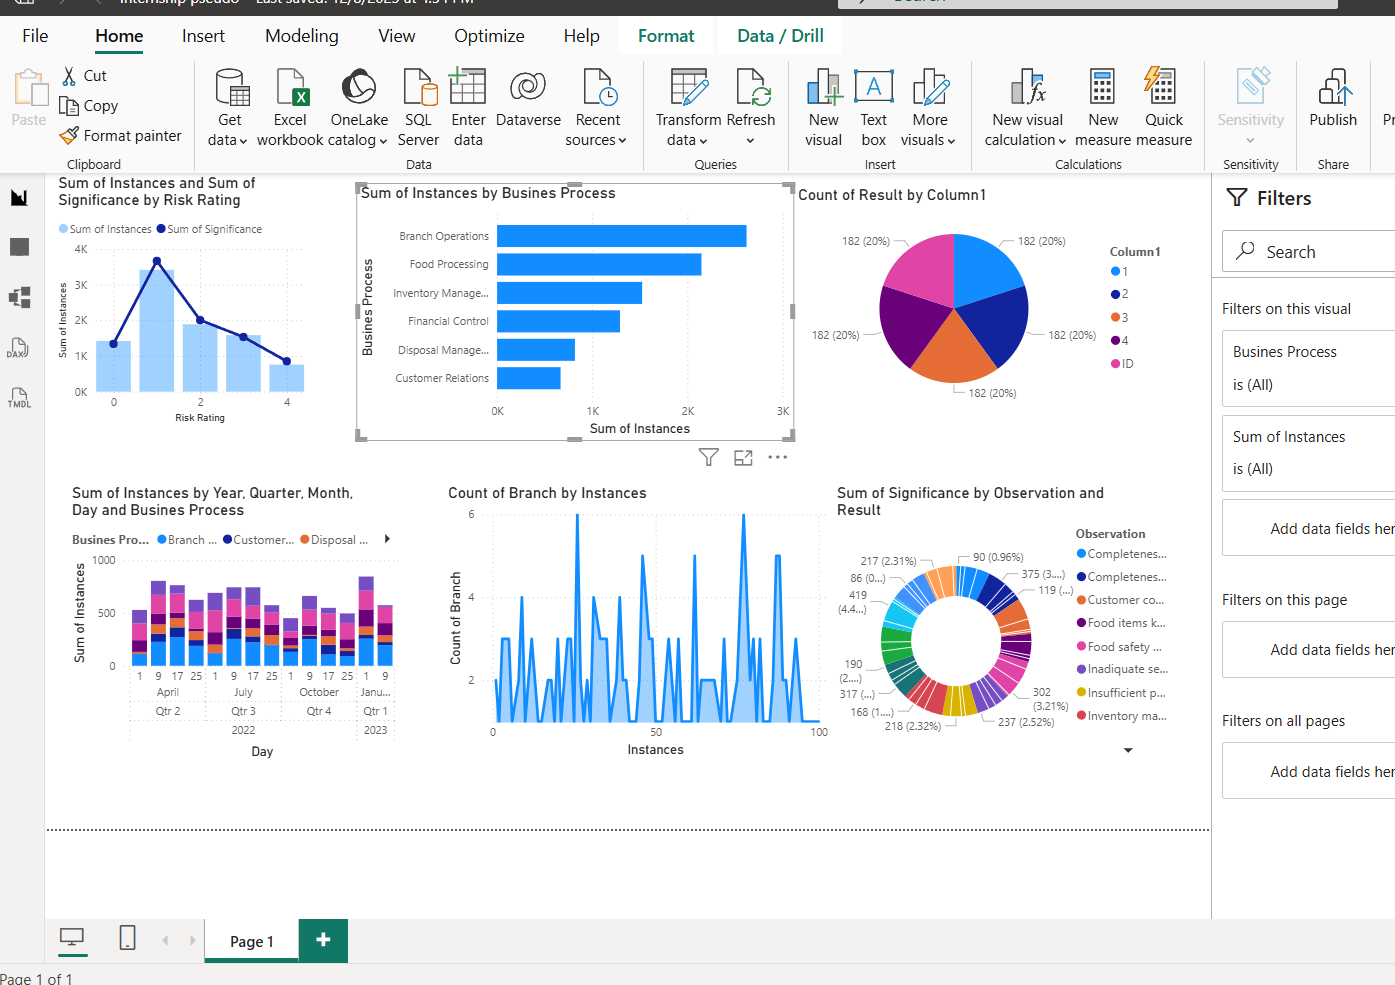

Layout of this report page (visuals, bound fields, positions):
{"tool":"powerbi","page":{"name":"Page 1","canvas":[1280,720],"ordinal":0},"visuals":[{"type":"lineStackedColumnComboChart","fields":{"Category":["Audit.Risk Rating"],"Y":["Sum(Audit.Instances)"],"Y2":["Sum(Audit.Significance)"]},"box":[10,0,280,280],"z":0},{"type":"clusteredBarChart","fields":{"Category":["Audit.Busines Process"],"Y":["Sum(Audit.Instances)"]},"box":[341.7,11,480.3,282.7],"z":1000},{"type":"pieChart","fields":{"Category":["Results.Column1"],"Y":["CountNonNull(Audit.Result)"]},"box":[822,13.7,428.1,249.7],"z":2000},{"type":"lineStackedColumnComboChart","fields":{"Y":["Sum(Audit.Instances)"],"Category":["Audit.Start Date.Variation.Date Hierarchy.Year","Audit.Start Date.Variation.Date Hierarchy.Quarter","Audit.Start Date.Variation.Date Hierarchy.Month","Audit.Start Date.Variation.Date Hierarchy.Day"],"Series":["Audit.Busines Process"]},"box":[24.7,340.3,370.5,307.4],"z":3000},{"type":"areaChart","fields":{"Category":["Audit.Instances"],"Y":["CountNonNull(Audit.Branch)"]},"box":[437.7,340.3,426.8,306],"z":4000},{"type":"donutChart","fields":{"Category":["Audit.Observation","Audit.Start Date.Variation.Date Hierarchy.Year","Audit.Start Date.Variation.Date Hierarchy.Quarter","Audit.Start Date.Variation.Date Hierarchy.Month","Audit.Start Date.Variation.Date Hierarchy.Day"],"Series":["Audit.Result"],"Y":["Sum(Audit.Significance)"]},"box":[865,340,385,306],"z":5000}]}

Visuals, with their boxes on the page's 1280x720 design canvas (x1, y1, x2, y2). These are canvas units, not pixel positions in the 1395x985 screenshot, which may show the page scaled, cropped or inside an application window:
lineStackedColumnComboChart - Audit.Risk Rating x Sum(Audit.Instances): box(10, 0, 290, 280)
clusteredBarChart - Audit.Busines Process x Sum(Audit.Instances): box(342, 11, 822, 294)
pieChart - Results.Column1 x CountNonNull(Audit.Result): box(822, 14, 1250, 263)
lineStackedColumnComboChart - Sum(Audit.Instances) x Audit.Start Date.Variation.Date Hierarchy.Year: box(25, 340, 395, 648)
areaChart - Audit.Instances x CountNonNull(Audit.Branch): box(438, 340, 864, 646)
donutChart - Audit.Observation x Audit.Start Date.Variation.Date Hierarchy.Year: box(865, 340, 1250, 646)
